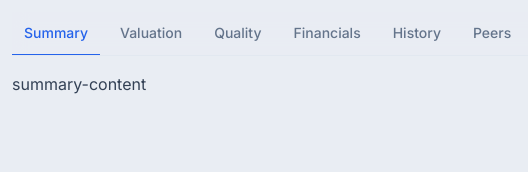
AnalysisTabs smooth transitions (B.2) › swaps content when a different tab is clicked
Click the tab "Valuation" at (151, 34), box [108,12,194,56]
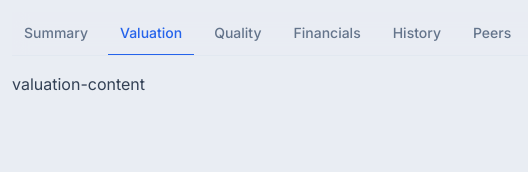
Expected: the text "valuation-content" is shown, [12,74,145,94]
Expected: the text "summary-content" is gone
